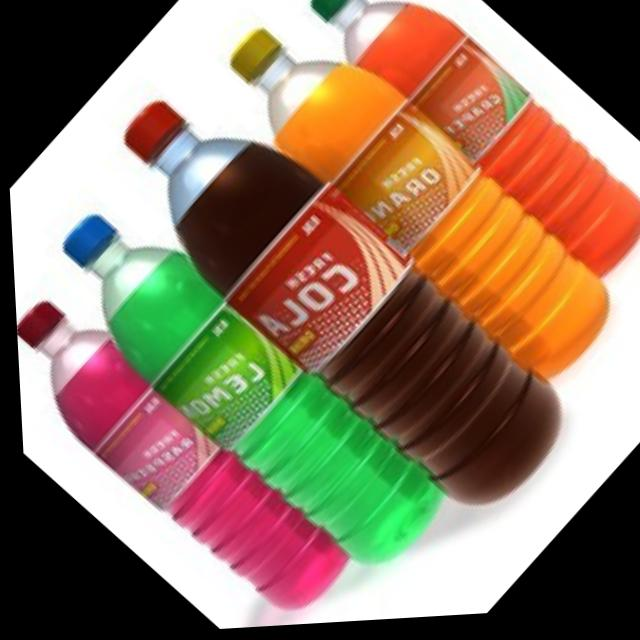plastic_soda_bottles: (76, 42, 582, 551), (25, 162, 462, 601), (195, 0, 634, 426), (11, 255, 363, 640), (278, 0, 640, 325)
